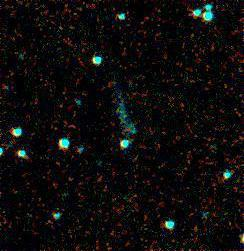star: (113, 115, 143, 145)
